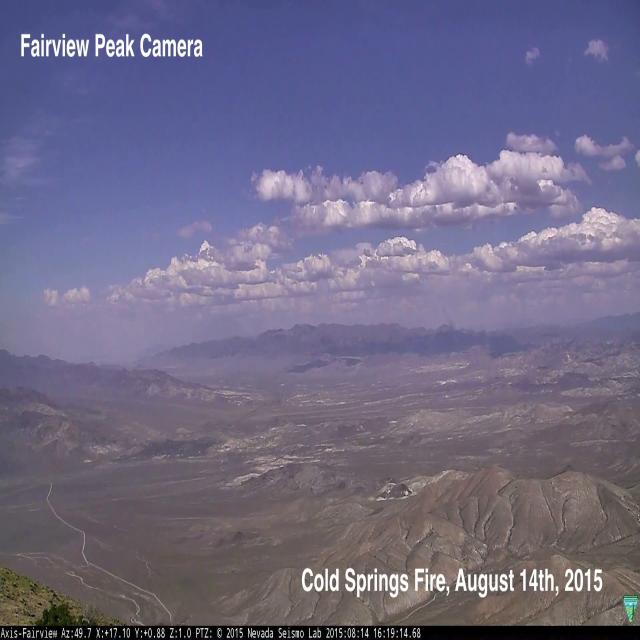smoke: (439, 306, 458, 328)
